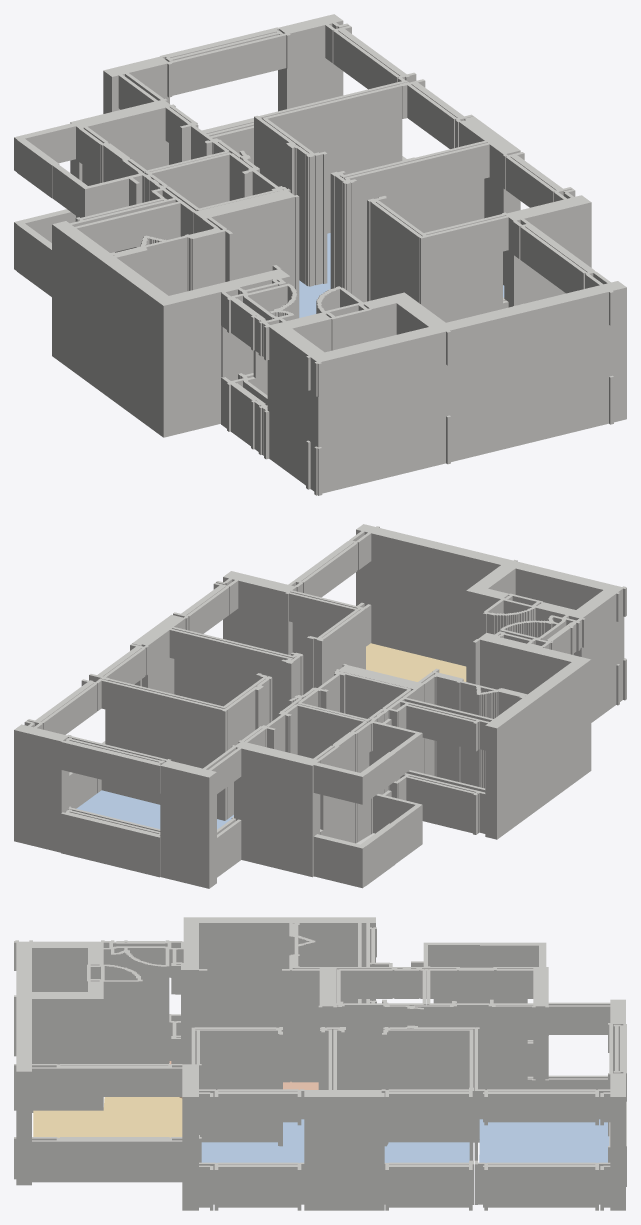
3 renders of one model, top to bottom at view 1: azimuth 30°, elevation 25°; view 2: azimuth 150°, elevation 25°; view 3: azimuth 270°, elevation 25°, orthographic. The views are drawn at different scales.
Visible parts, largest first — view 1: walls, room:bedroom:3; view 2: walls, room:living:6, room:bedroom:0; view 3: walls, room:bedroom:0, room:living:6, room:bedroom:8, room:bedroom:3.
Part boxes in pixels (x1=…): walls: x1=14, y1=14, x2=626, y2=495; room:bedroom:3: x1=299, y1=233, x2=330, y2=317; walls: x1=14, y1=524, x2=626, y2=888; room:living:6: x1=366, y1=643, x2=466, y2=681; room:bedroom:0: x1=76, y1=790, x2=233, y2=829; walls: x1=14, y1=917, x2=626, y2=1210; room:bedroom:0: x1=479, y1=1119, x2=609, y2=1162; room:living:6: x1=33, y1=1097, x2=182, y2=1137; room:bedroom:8: x1=201, y1=1119, x2=304, y2=1162; room:bedroom:3: x1=384, y1=1142, x2=469, y2=1162.
Bounding box in the file's own units: 9.49 × 2.8 × 13.68.
